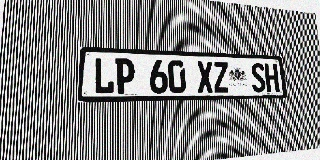0: (168, 60, 186, 93)
6: (149, 59, 168, 94)
H: (264, 63, 280, 92)
L: (93, 57, 114, 94)
P: (115, 58, 135, 94)
S: (250, 63, 266, 92)
X: (196, 61, 214, 93)
Z: (212, 61, 229, 93)
